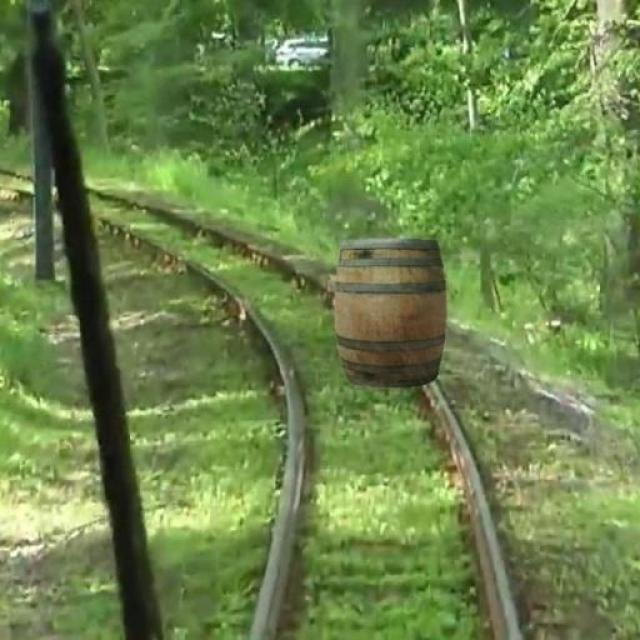Other_objects: (321, 228, 454, 397)
